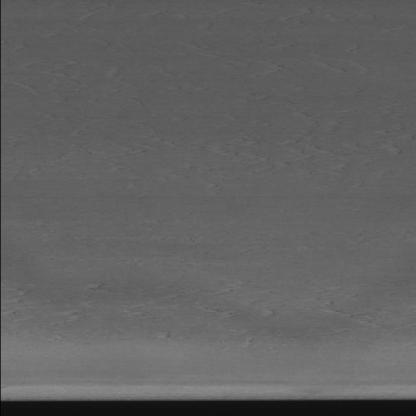silk_spot: (10, 270, 349, 349)
